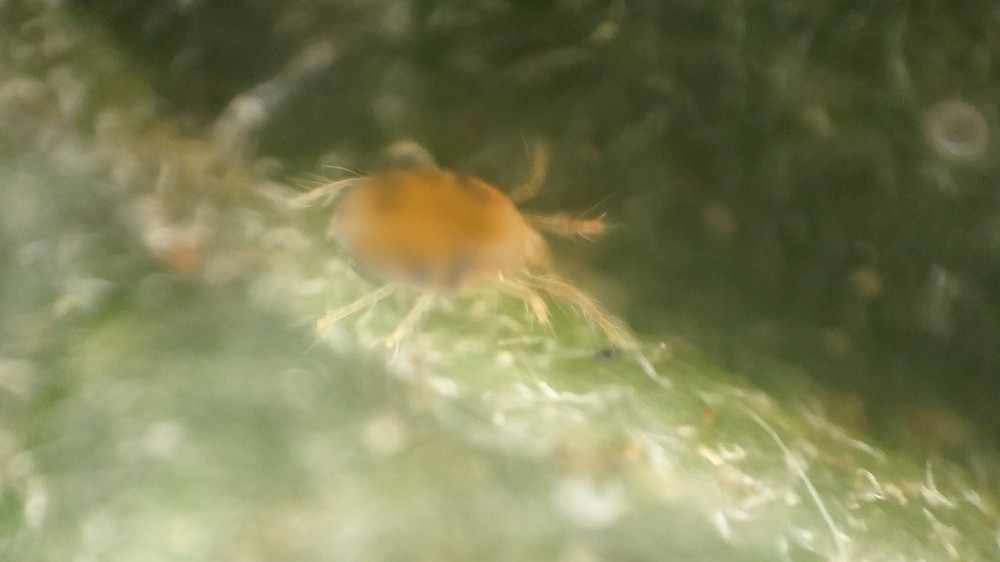Aracnido Rojo: (278, 121, 658, 381)
